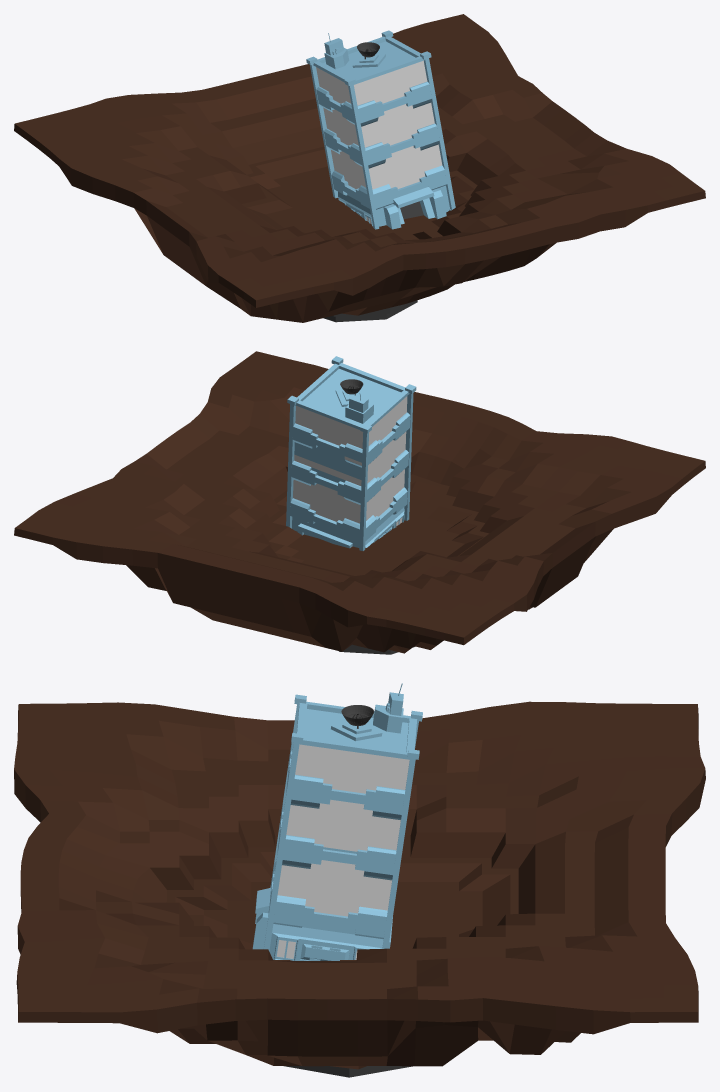
Rendered from Edificio_espacial_1.fbx.
The picture shows the model from 3 angles, top to bottom: view 1: azimuth 30°, elevation 25°; view 2: azimuth 150°, elevation 25°; view 3: azimuth 270°, elevation 25°; orthographic projection. The views are drawn at different scales.
Parts seen in each view (by area): view 1: Base Paleta.001; view 2: Base Paleta.001; view 3: Base Paleta.001.
Part boxes in pixels (left/top/right/bottom): Base Paleta.001: left=14, top=14, right=705, bottom=322; Base Paleta.001: left=14, top=351, right=705, bottom=654; Base Paleta.001: left=14, top=683, right=705, bottom=1077.
Size of the model in its own units: 583 by 307 by 548.
3 materials, 1 textured.
